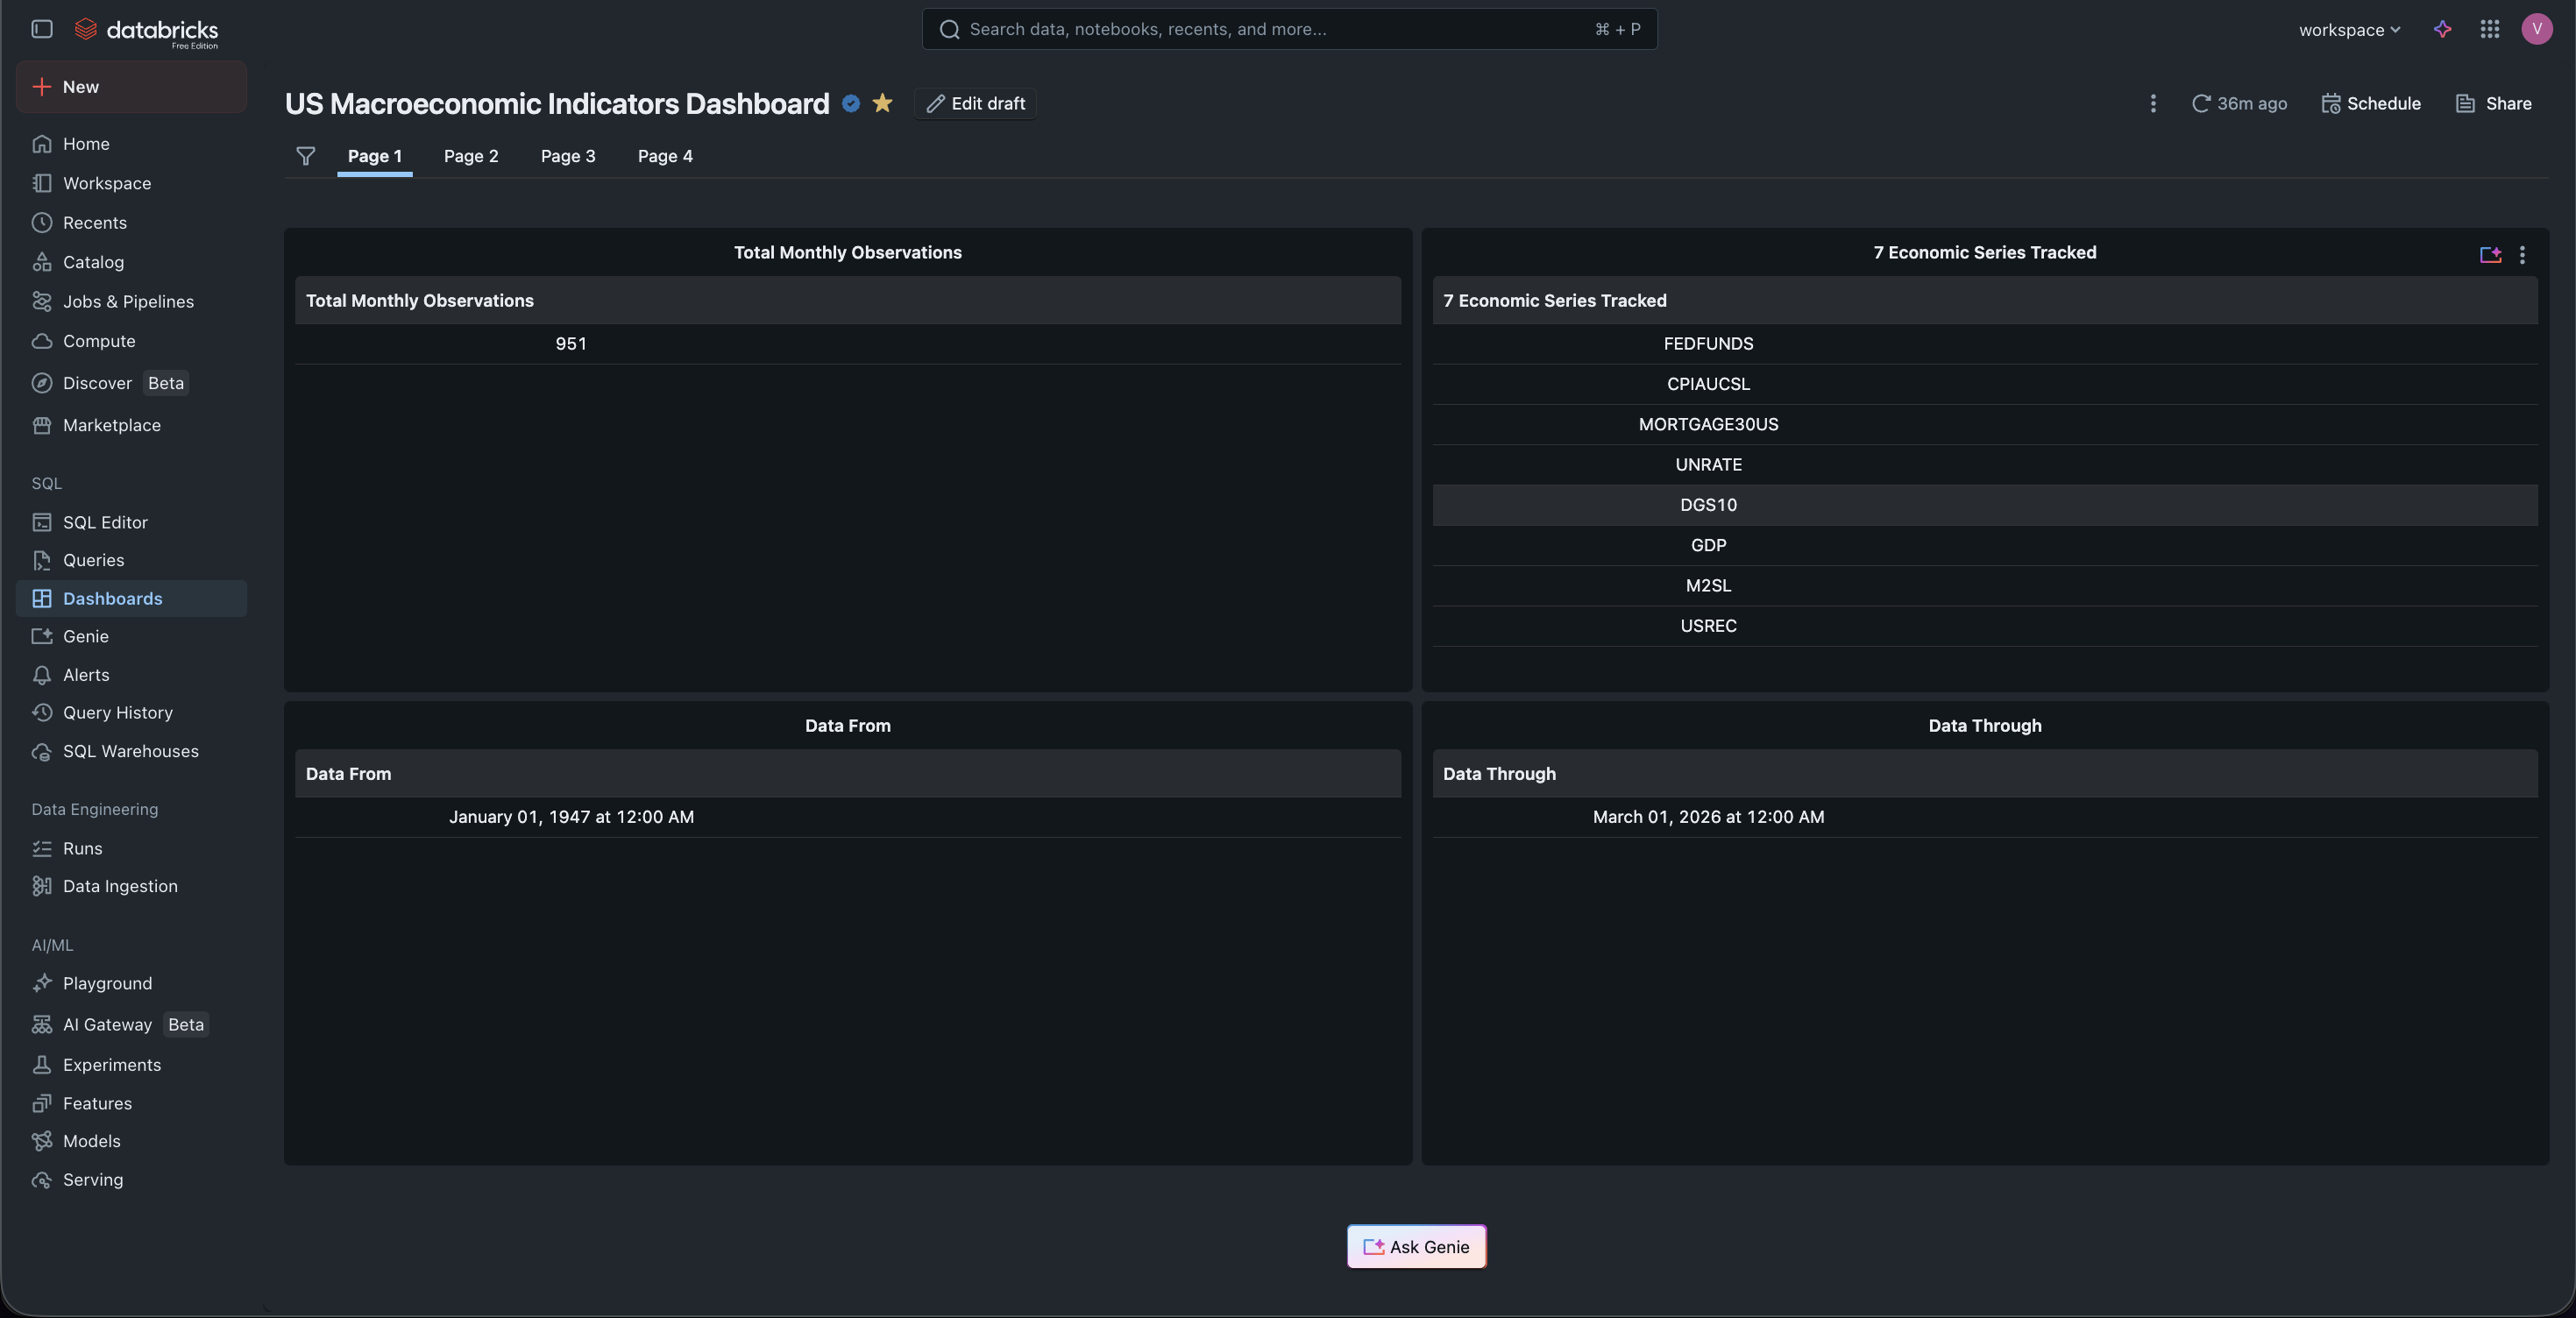

The dashboard page shown, as its layout file describes it:
{"tool":"powerbi","page":{"name":"Page 1","canvas":[1280,720],"ordinal":0},"visuals":[{"type":"cardVisual","title":"Total Monthly Observations","fields":{"Data":["Count(wide_macro_indicators.obs_date)"]},"box":[0,0,639.2,360.6],"z":0},{"type":"cardVisual","title":"Data Through","fields":{"Data":["Max(wide_macro_indicators.obs_date)"]},"box":[639.2,360,640.8,360],"z":1000},{"type":"cardVisual","title":"Data From","fields":{"Data":["Min(wide_macro_indicators.obs_date)"]},"box":[0,360,640.8,360],"z":2000},{"type":"tableEx","title":"7 Economic Series Tracked","fields":{"Values":["indicators.series_id"]},"box":[639,0,641,360],"z":3000}]}

Visuals, with their boxes on the page's 1280x720 design canvas (x1, y1, x2, y2). These are canvas units, not pixel positions in the 2576x1318 screenshot, which may show the page scaled, cropped or inside an application window:
"Total Monthly Observations" cardVisual: region(0, 0, 639, 361)
"Data Through" cardVisual: region(639, 360, 1280, 720)
"Data From" cardVisual: region(0, 360, 641, 720)
"7 Economic Series Tracked" tableEx: region(639, 0, 1280, 360)
